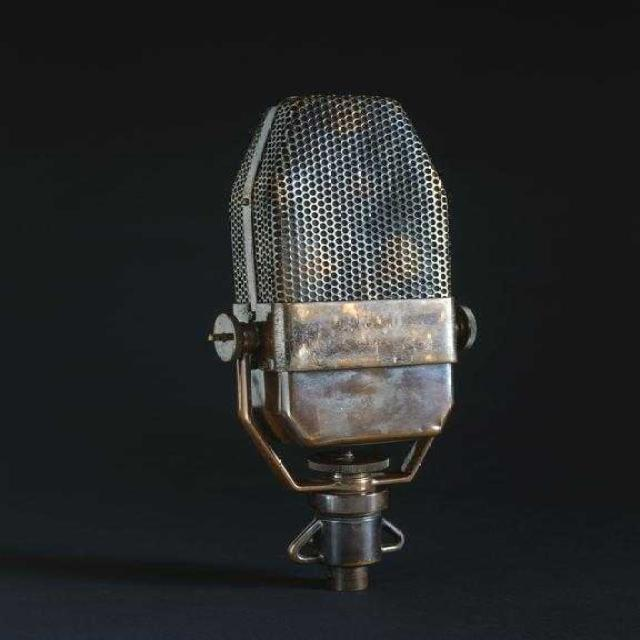microphone: (229, 100, 461, 454)
